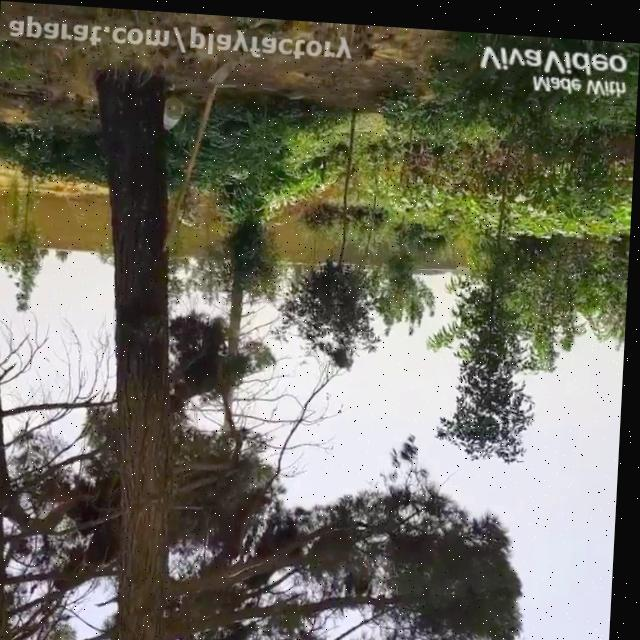drone: (300, 352, 312, 363)
